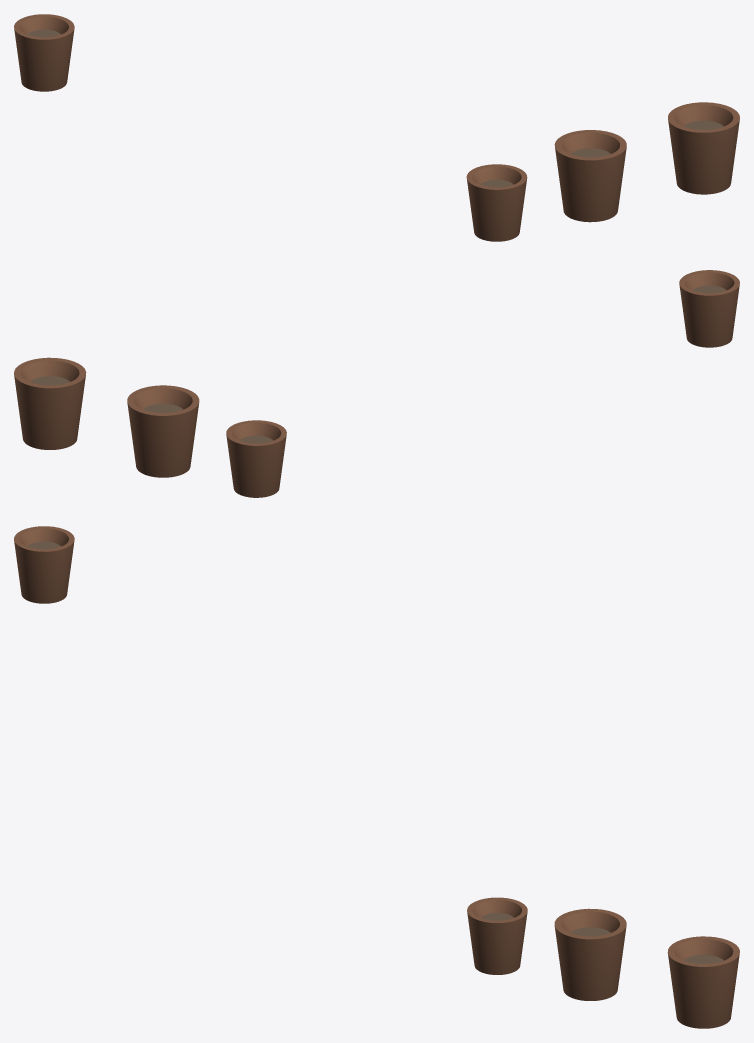
The model's file is SM_Gorshki.fbx.
3 renders of one model, top to bottom at view 1: azimuth 30°, elevation 25°; view 2: azimuth 150°, elevation 25°; view 3: azimuth 330°, elevation 25°, orthographic.
Parts seen in each view (by area): view 1: SM_Gorshki; view 2: SM_Gorshki; view 3: SM_Gorshki.
Boxes of the visible parts, left/top/right/bottom form: SM_Gorshki: left=14, top=14, right=739, bottom=241; SM_Gorshki: left=14, top=270, right=739, bottom=497; SM_Gorshki: left=14, top=526, right=739, bottom=1028.
Bounding box in the file's own units: 193 × 16.83 × 81.3.
